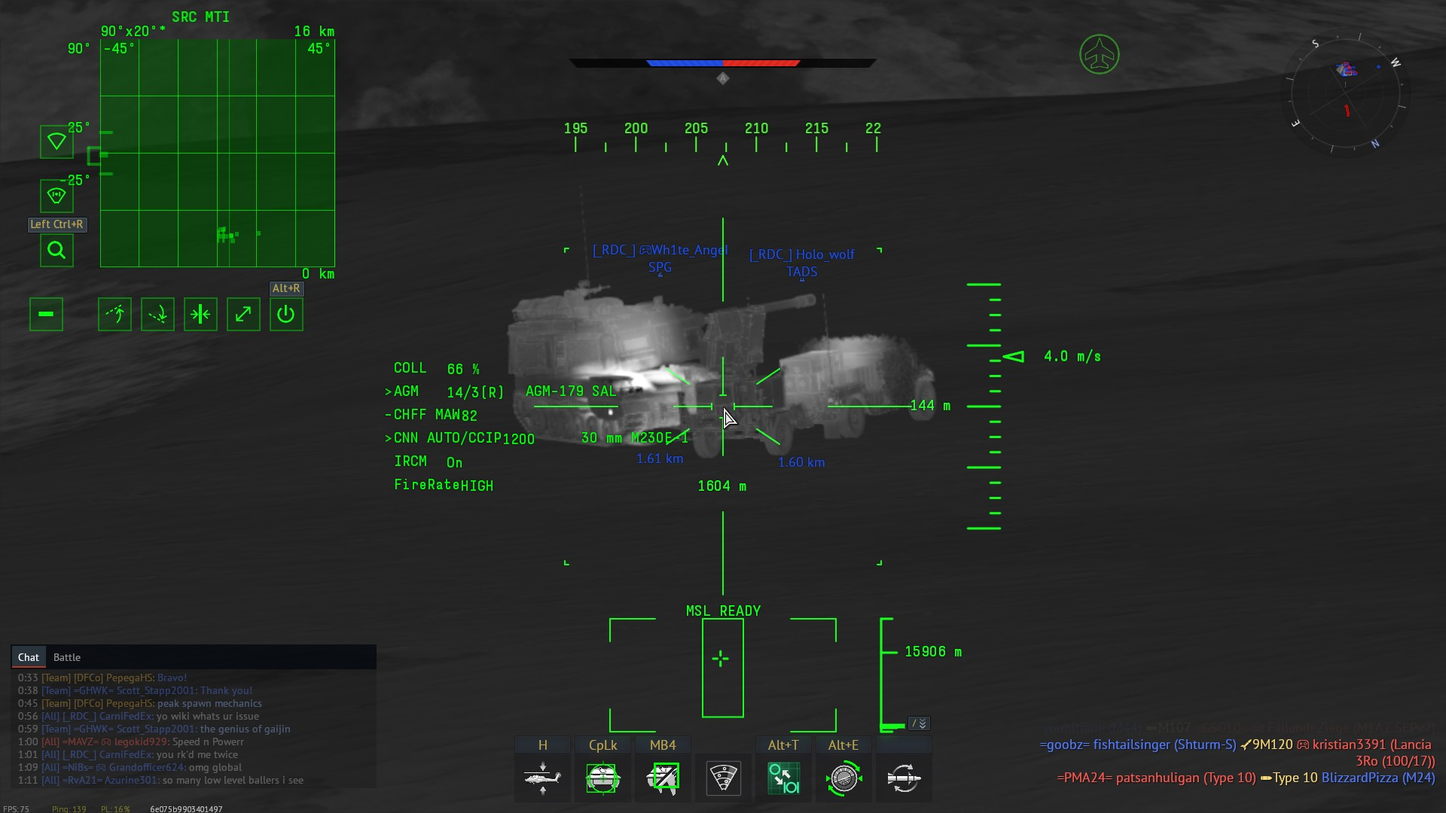spaa_tads: (676, 306, 938, 460)
